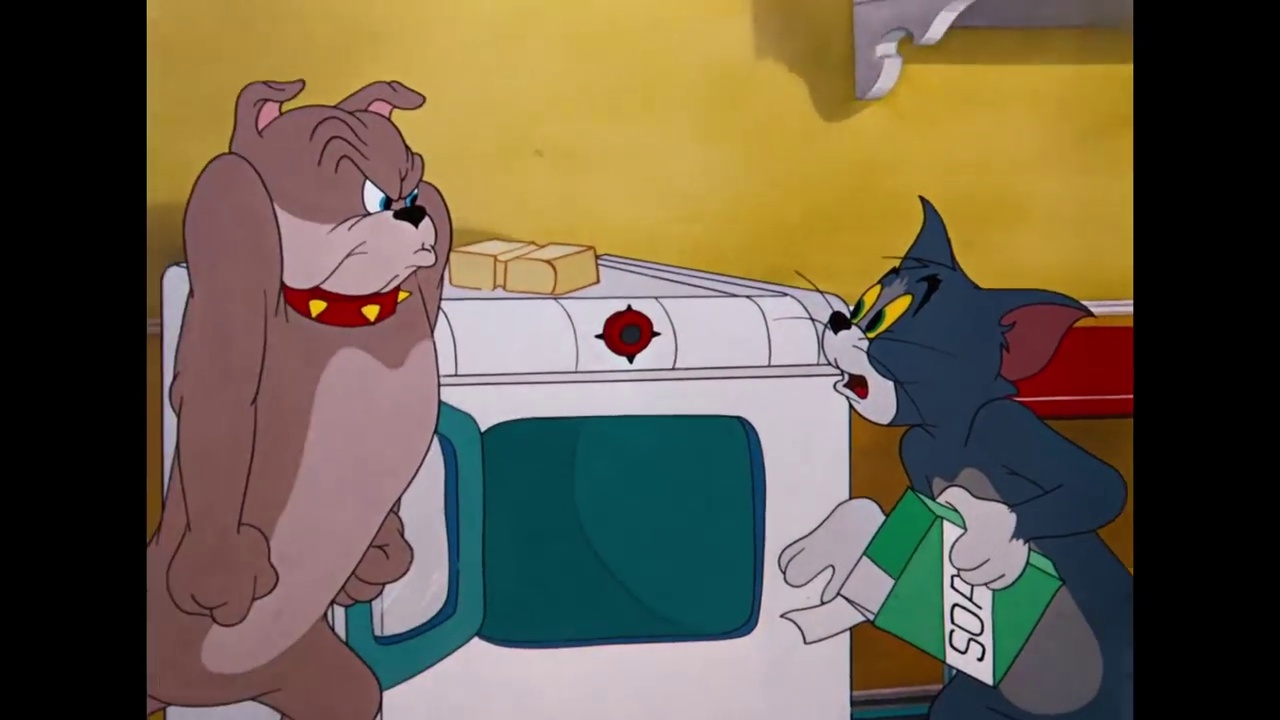spike: (230, 75, 462, 334)
tom: (806, 187, 1096, 431)
